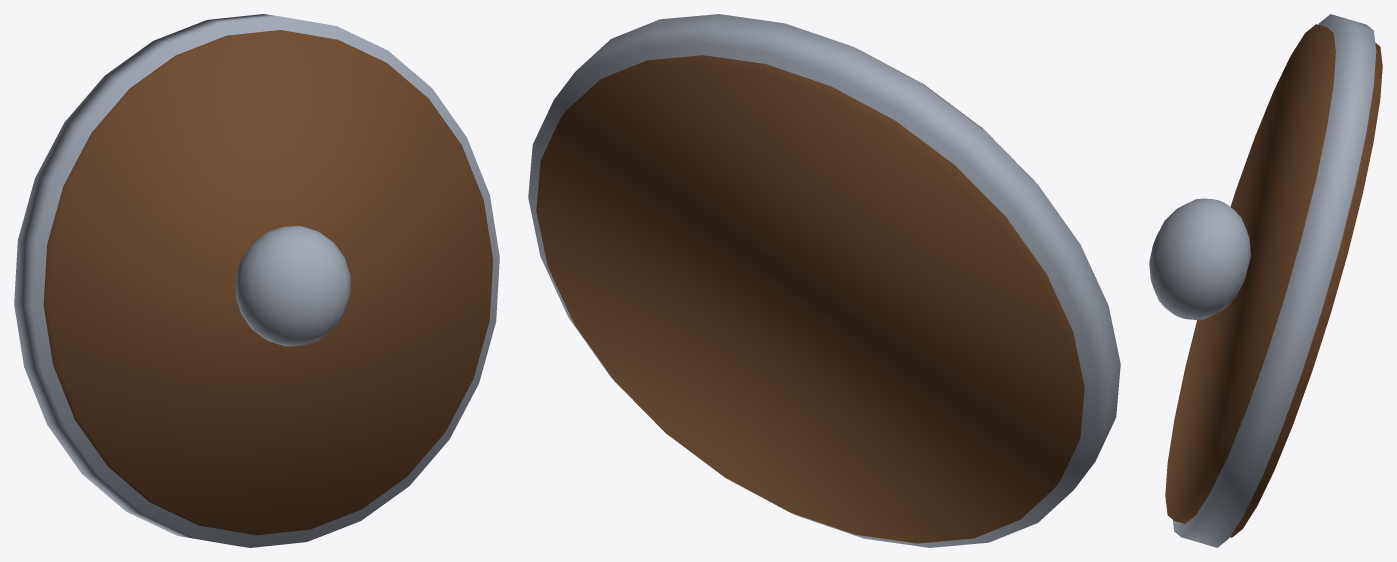
Rendered from shield.glb.
3 views of the same model, side by side, from view 1: azimuth 30°, elevation 25°; view 2: azimuth 150°, elevation 25°; view 3: azimuth 270°, elevation 25° (orthographic). The views are drawn at different scales.
Parts seen in each view (by area): view 1: shield; view 2: shield; view 3: shield.
Boxes of the visible parts, <box> form: shield: <box>14,14,499,547</box>; shield: <box>528,14,1120,547</box>; shield: <box>1149,14,1382,547</box>.
Bounding box in the file's own units: 0.3137 × 0.3073 × 0.1353.
